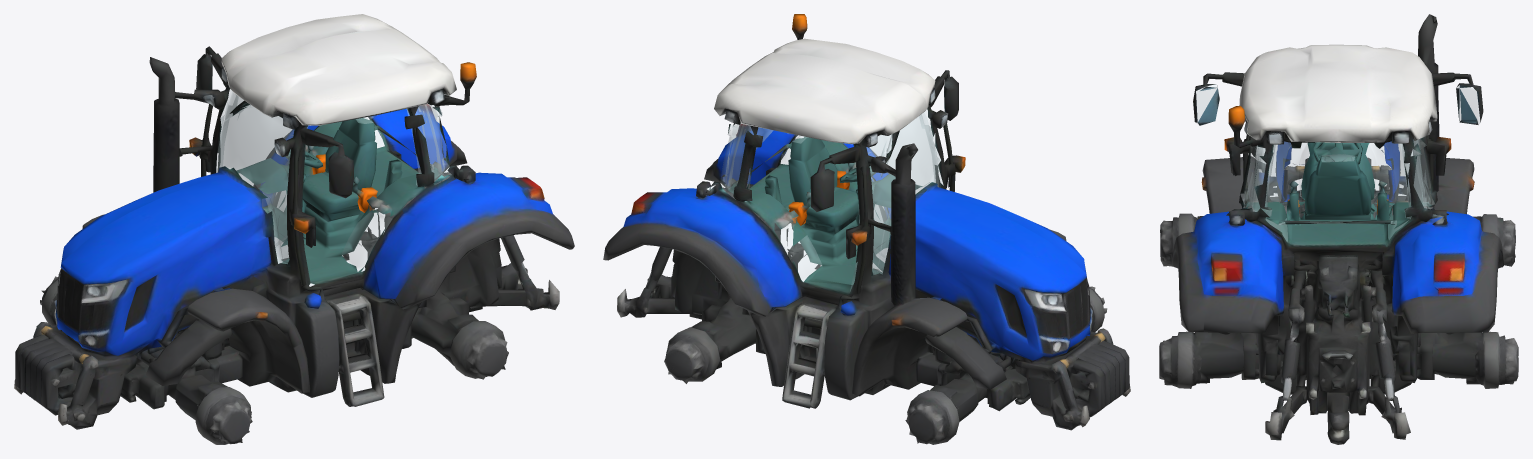
Rendered from buyuk-traktor.glb.
3 renders of one model, left to right at view 1: azimuth 30°, elevation 25°; view 2: azimuth 150°, elevation 25°; view 3: azimuth 270°, elevation 25°, orthographic. The views are drawn at different scales.
Parts seen in each view (by area): view 1: tripo_node_2aa0e48e-7198-4bd8-bbe6-78db7963b70a; view 2: tripo_node_2aa0e48e-7198-4bd8-bbe6-78db7963b70a; view 3: tripo_node_2aa0e48e-7198-4bd8-bbe6-78db7963b70a.
Boxes of the visible parts, bbox=[...] form: tripo_node_2aa0e48e-7198-4bd8-bbe6-78db7963b70a: bbox=[14, 14, 574, 444]; tripo_node_2aa0e48e-7198-4bd8-bbe6-78db7963b70a: bbox=[603, 14, 1130, 444]; tripo_node_2aa0e48e-7198-4bd8-bbe6-78db7963b70a: bbox=[1159, 14, 1518, 444].
Bounding box in the file's own units: 0.9804 × 0.5589 × 0.6201.
2 materials, 1 textured.
